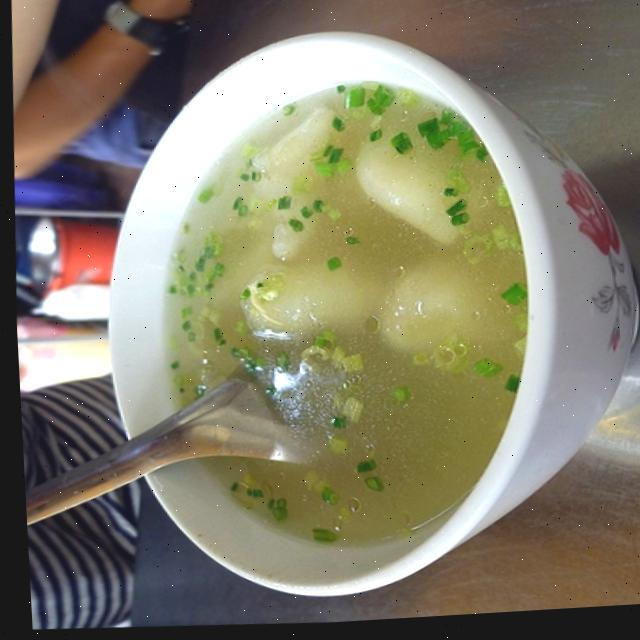熟制海鲜: (126, 63, 521, 577)
